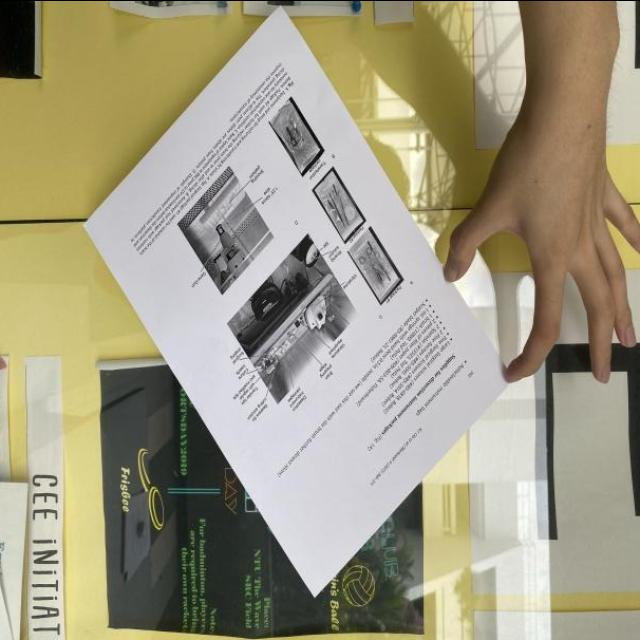kertas: (40, 5, 555, 596)
